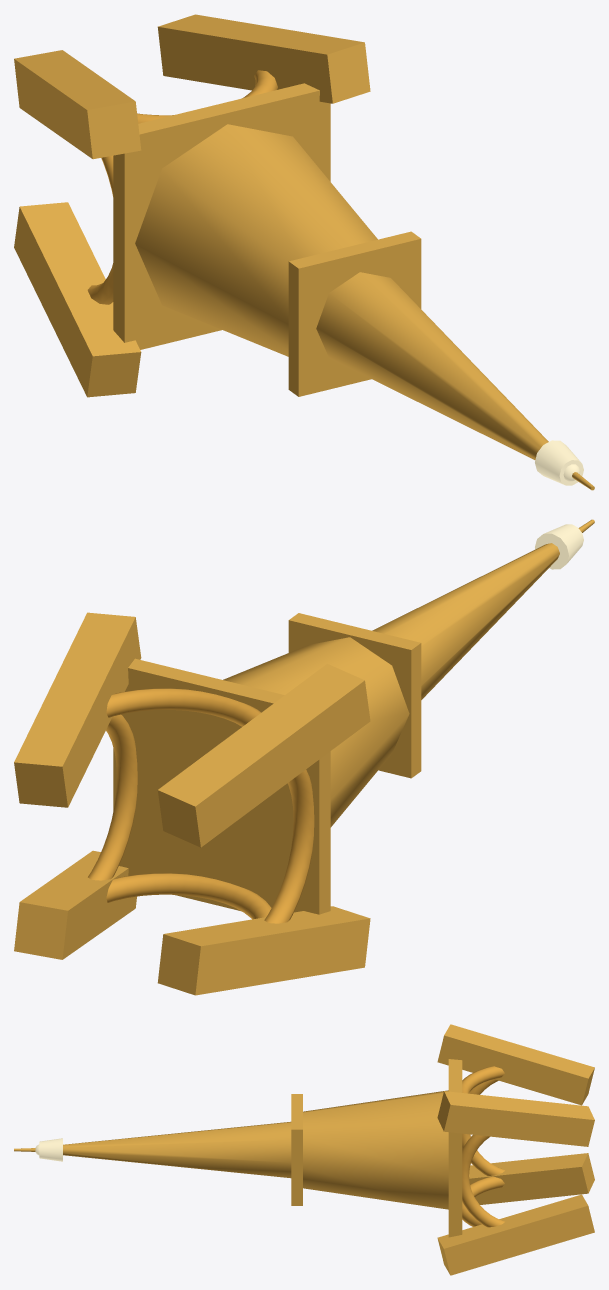
File: tour_eiffel.glb
3 views of the same model, one above another, from view 1: azimuth 30°, elevation 25°; view 2: azimuth 150°, elevation 25°; view 3: azimuth 270°, elevation 25° (orthographic). The views are drawn at different scales.
Visible parts, largest first — view 1: Tour Eiffel; view 2: Tour Eiffel; view 3: Tour Eiffel.
Boxes of the visible parts, bbox=[...] form: Tour Eiffel: bbox=[14, 14, 594, 490]; Tour Eiffel: bbox=[14, 519, 594, 995]; Tour Eiffel: bbox=[14, 1024, 594, 1275].
Size of the model in its own units: 113 by 114 by 345.
